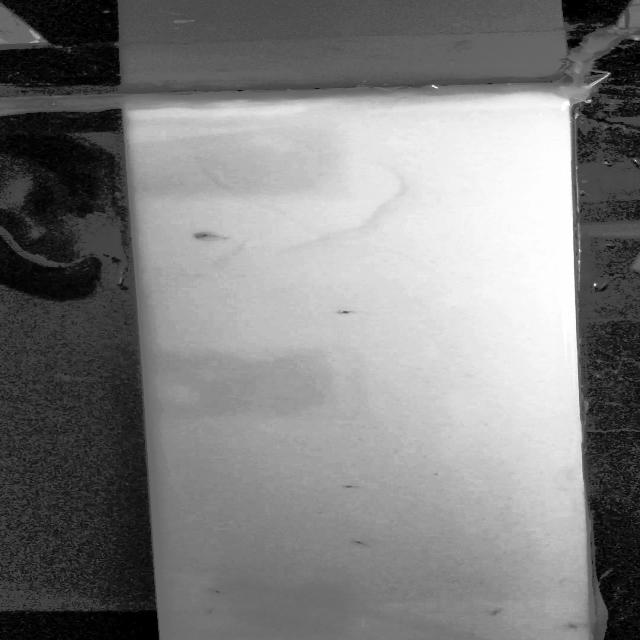shrimp: (189, 231, 233, 241), (350, 538, 372, 550), (340, 481, 364, 491), (205, 587, 229, 597), (332, 308, 358, 316), (483, 608, 503, 616), (561, 623, 583, 630), (202, 608, 219, 615)
